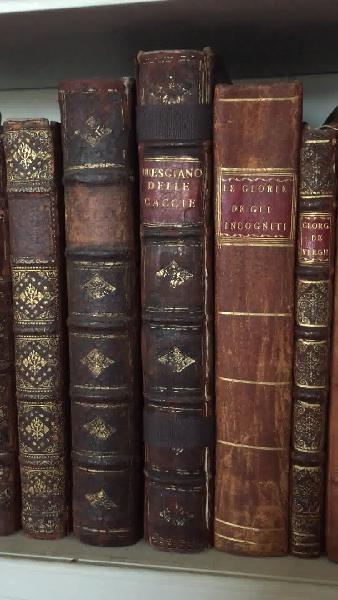Aa6-30: (6, 108, 74, 545)
Aa6-31: (44, 78, 139, 555)
Aa6-32: (135, 43, 216, 555)
Aa6-33: (210, 70, 296, 567)
Aa6-34: (297, 117, 338, 554)
